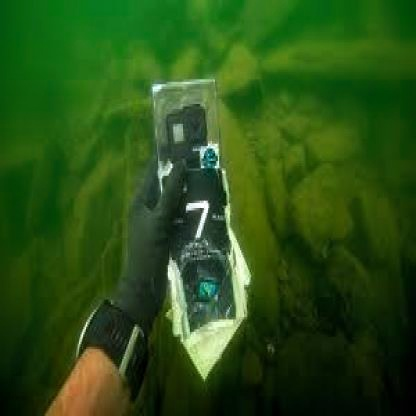electronics: (162, 96, 211, 176)
